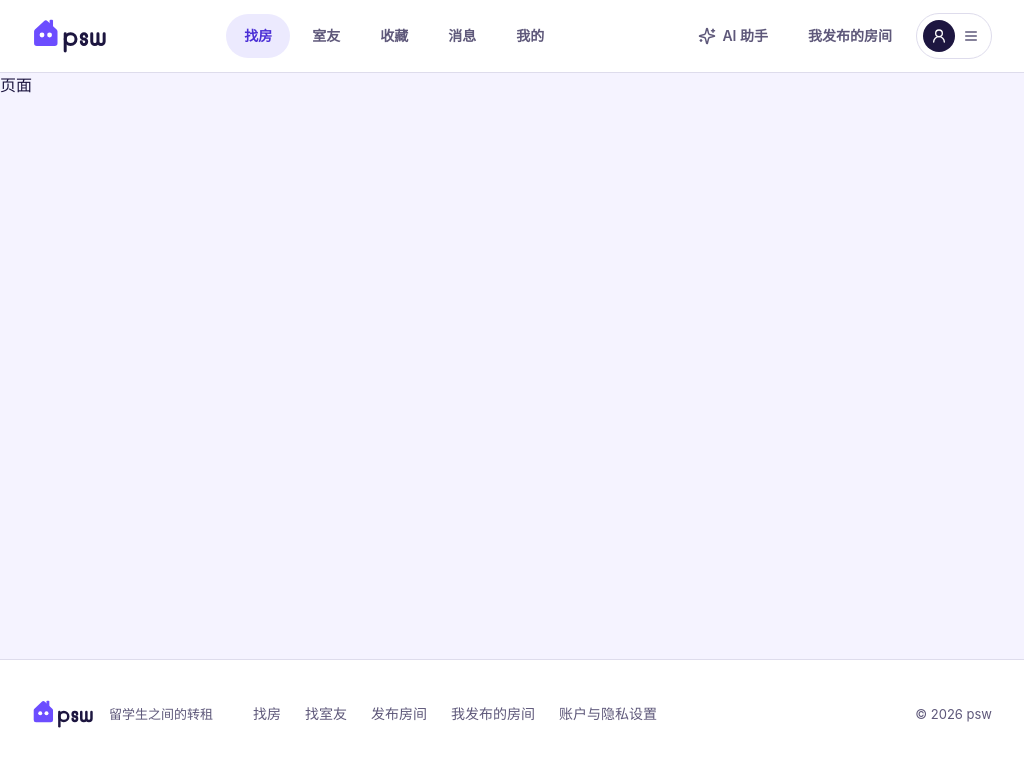
Scenario: assistant UI › streams an answer with cards and hands a draft to the inbox
The width and height of the screenshot is (1024, 768).
Click the button with aria-label "打开 AI 助手": (733, 36) top-left (682, 14), bottom-right (784, 58)
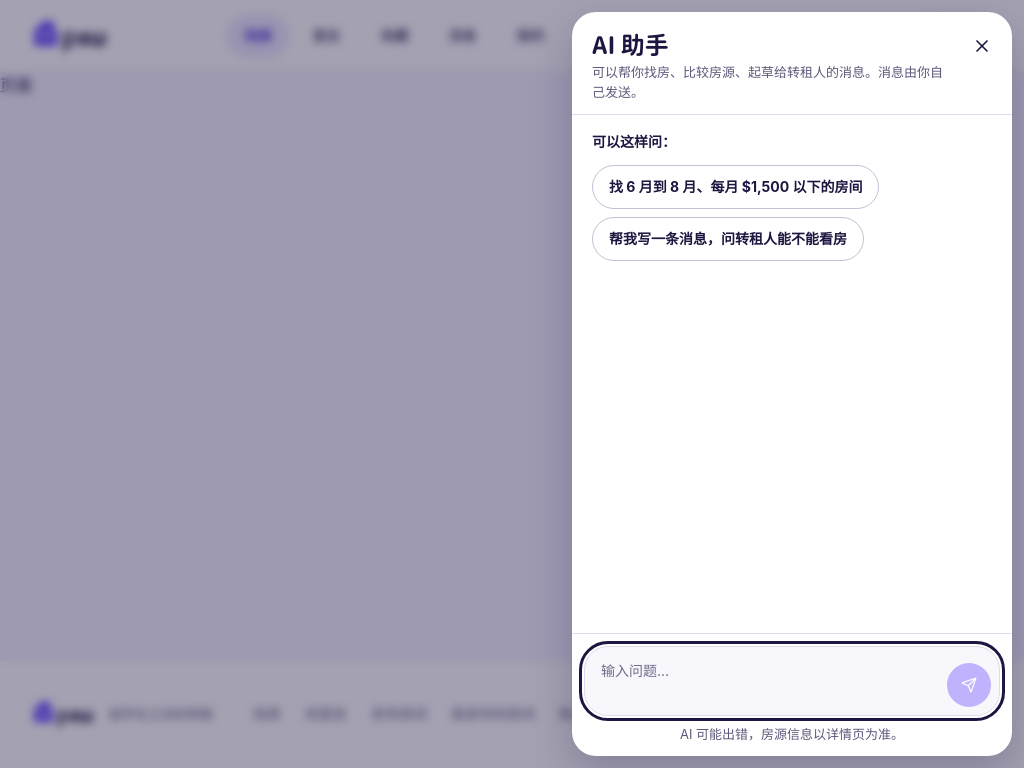
Click the button "帮我写一条消息，问转租人能不能看房": (728, 239) top-left (592, 217), bottom-right (864, 261)
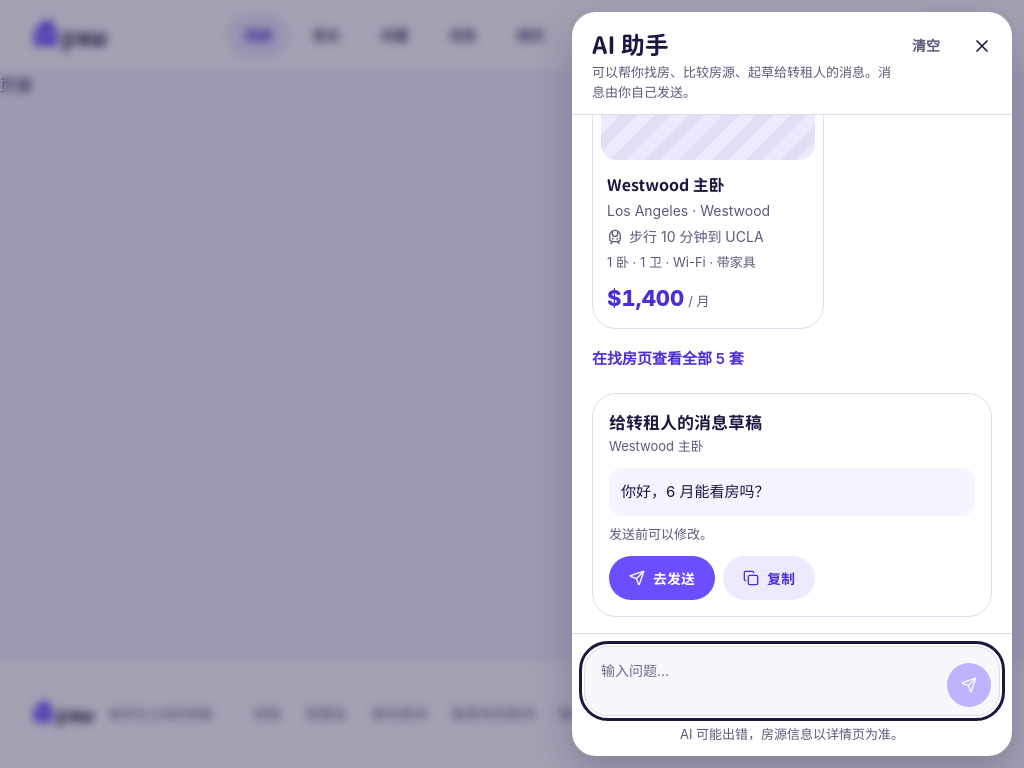
Click the button "去发送": (662, 578) top-left (609, 556), bottom-right (715, 600)
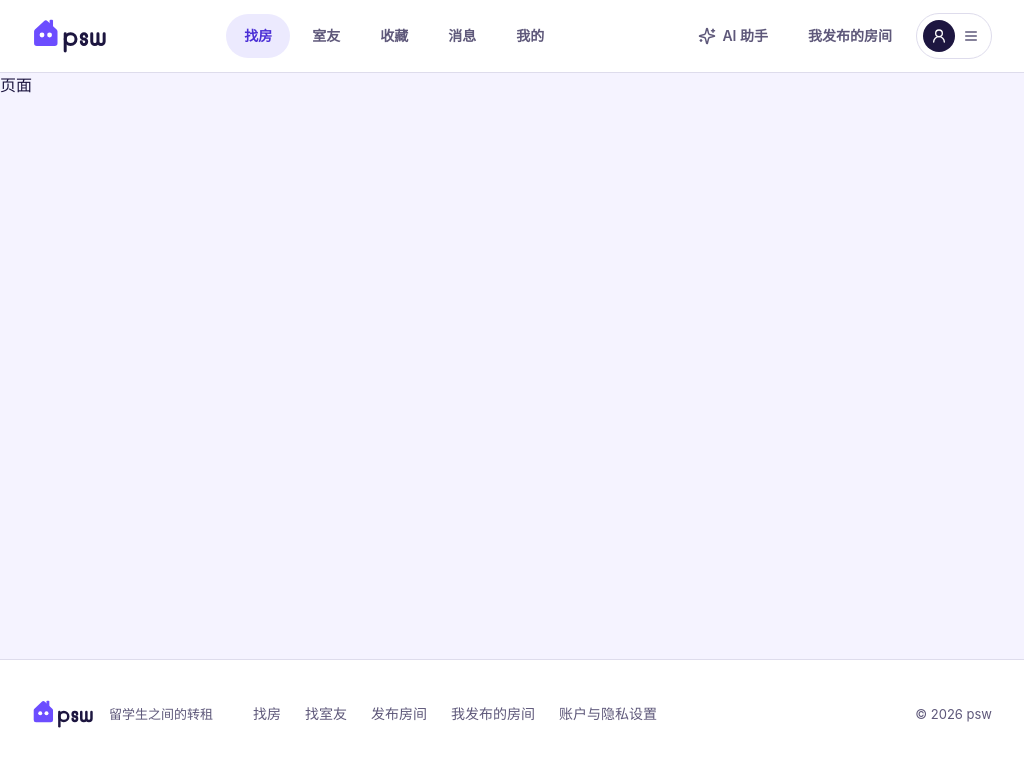
Expected: the dialog is gone
